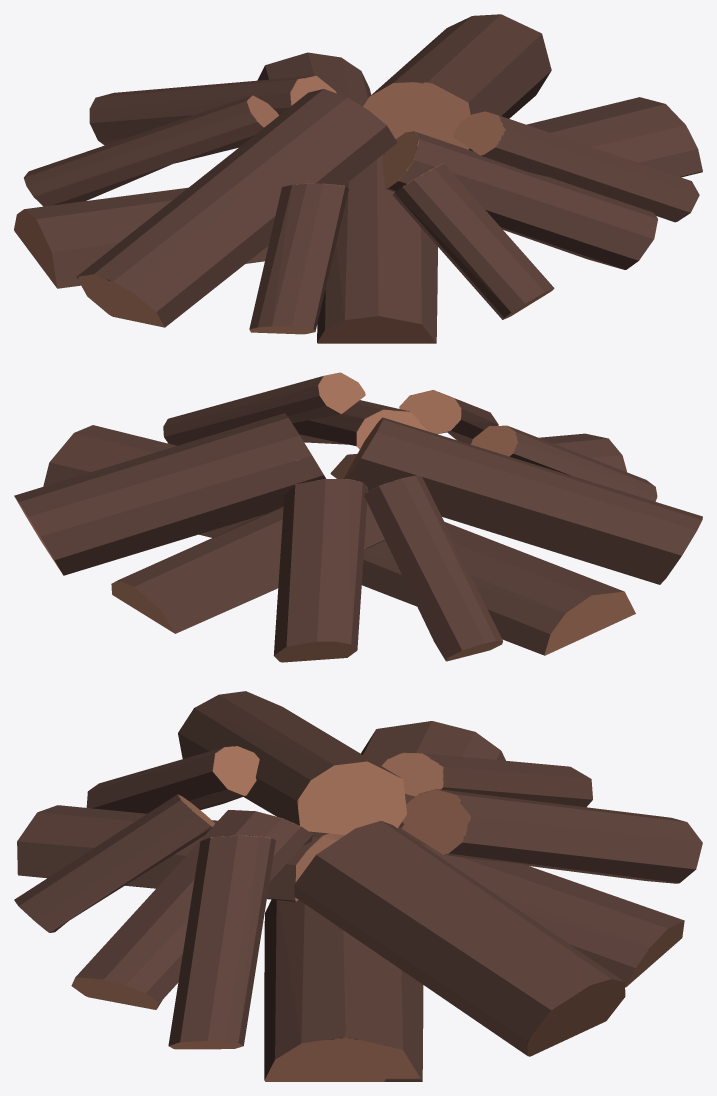
Rendered from Fireplace.fbx.
3 renders of one model, top to bottom at view 1: azimuth 30°, elevation 25°; view 2: azimuth 150°, elevation 25°; view 3: azimuth 270°, elevation 25°, orthographic. The views are drawn at different scales.
Visible parts, largest first — view 1: Fireplace; view 2: Fireplace; view 3: Fireplace.
Part boxes in pixels (bbox=[...]): Fireplace: bbox=[14, 14, 702, 343]; Fireplace: bbox=[14, 372, 702, 662]; Fireplace: bbox=[14, 691, 702, 1081].
Bounding box in the file's own units: 284 × 59.15 × 250.
